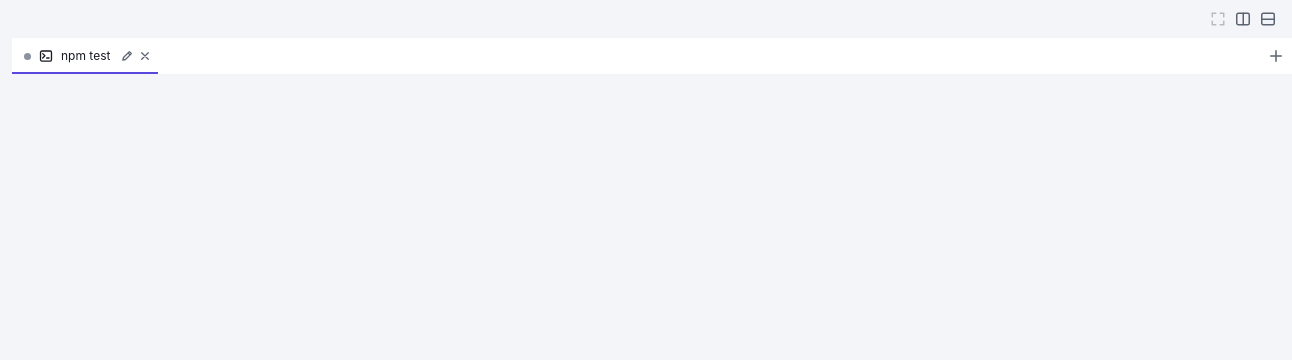
Scenario: the menu the + opens › names the terminal chord on its row
Click the button named "New tab" at (1276, 56), box x1=1264 y1=44 x2=1288 y2=68
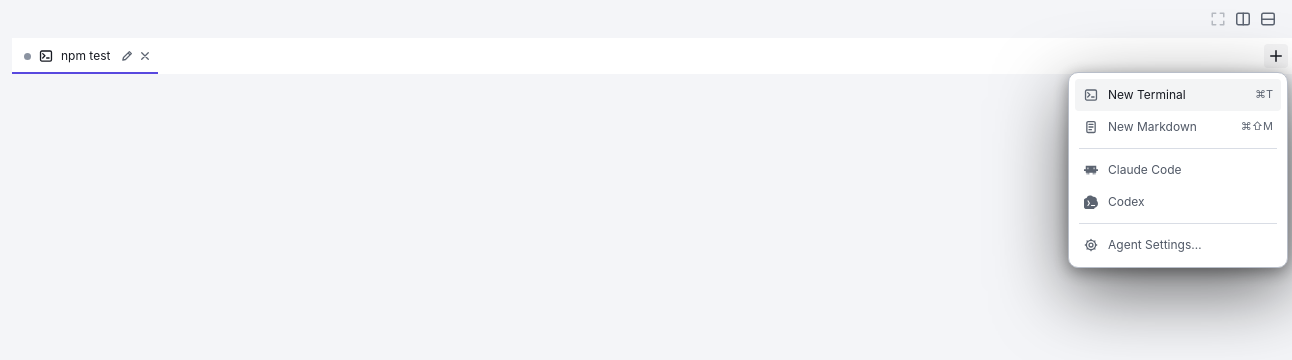
Expected: the text "⌘T" is shown, x1=1255 y1=87 x2=1273 y2=103
